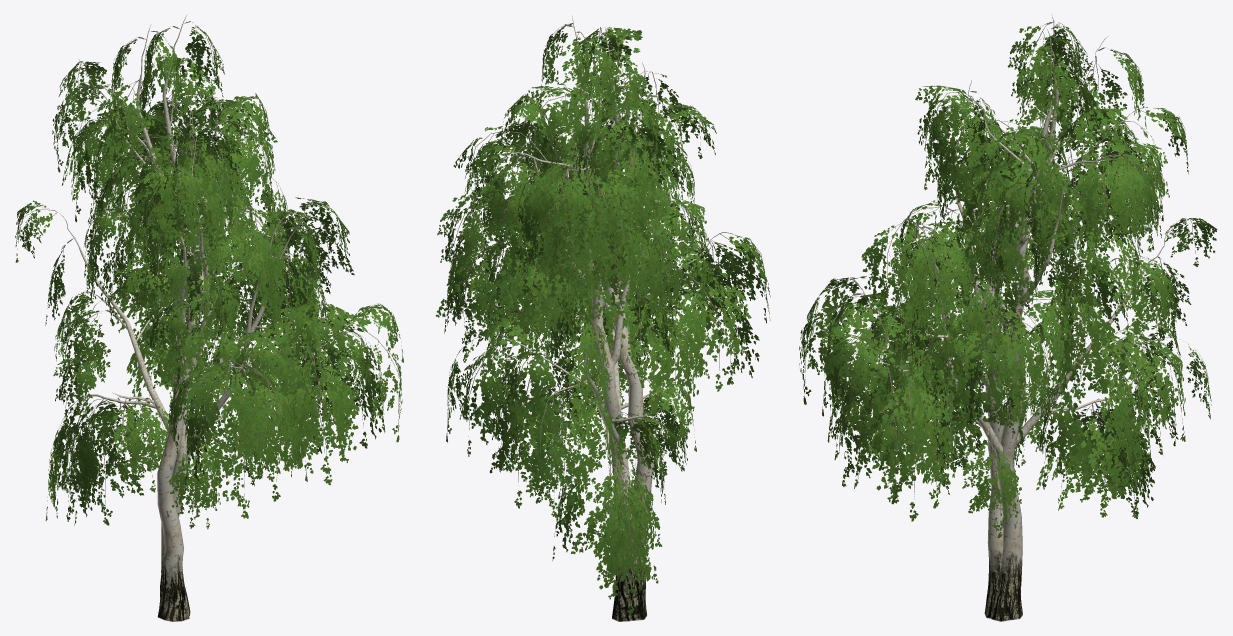
File: tree3.glb
3 renders of one model, left to right at view 1: azimuth 30°, elevation 25°; view 2: azimuth 150°, elevation 25°; view 3: azimuth 270°, elevation 25°, orthographic. The views are drawn at different scales.
Visible parts, largest first — view 1: Birch_LOD1_Birch_Atlas_0, Birch_2_LOD1_Birch_Atlas_0, Birch_LOD1_Birch_bark_0, Birch_2_LOD1_Birch_bark_0; view 2: Birch_LOD1_Birch_Atlas_0, Birch_2_LOD1_Birch_Atlas_0, Birch_LOD1_Birch_bark_0, Birch_2_LOD1_Birch_bark_0; view 3: Birch_LOD1_Birch_Atlas_0, Birch_2_LOD1_Birch_Atlas_0, Birch_LOD1_Birch_bark_0, Birch_2_LOD1_Birch_bark_0.
Part boxes in pixels (bbox=[...]): Birch_LOD1_Birch_Atlas_0: bbox=[15, 21, 403, 616]; Birch_2_LOD1_Birch_Atlas_0: bbox=[52, 31, 361, 621]; Birch_LOD1_Birch_bark_0: bbox=[63, 15, 347, 517]; Birch_2_LOD1_Birch_bark_0: bbox=[78, 24, 311, 529]; Birch_LOD1_Birch_Atlas_0: bbox=[436, 23, 770, 621]; Birch_2_LOD1_Birch_Atlas_0: bbox=[447, 32, 723, 620]; Birch_LOD1_Birch_bark_0: bbox=[502, 15, 710, 519]; Birch_2_LOD1_Birch_bark_0: bbox=[530, 28, 681, 516]; Birch_LOD1_Birch_Atlas_0: bbox=[799, 34, 1217, 621]; Birch_2_LOD1_Birch_Atlas_0: bbox=[829, 21, 1188, 618]; Birch_LOD1_Birch_bark_0: bbox=[862, 29, 1166, 521]; Birch_2_LOD1_Birch_bark_0: bbox=[885, 14, 1129, 516].
Bounding box in the file's own units: 5.48 × 11.85 × 7.47.
Materials: 2 (2 with a texture image).
